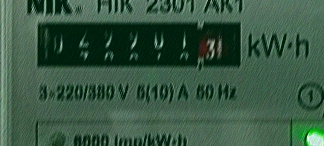0: (150, 25, 165, 50), (49, 31, 64, 53)
1: (177, 25, 189, 49)
2: (75, 26, 90, 48)
3: (202, 37, 217, 60)
9: (126, 27, 138, 50), (101, 26, 113, 47)
screen: (28, 14, 249, 76)
